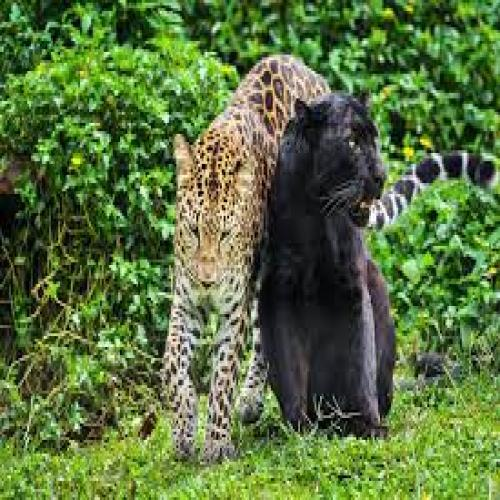panther-endangered: (258, 89, 398, 431)
